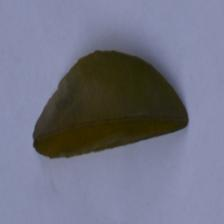greening: (48, 81, 152, 146)
